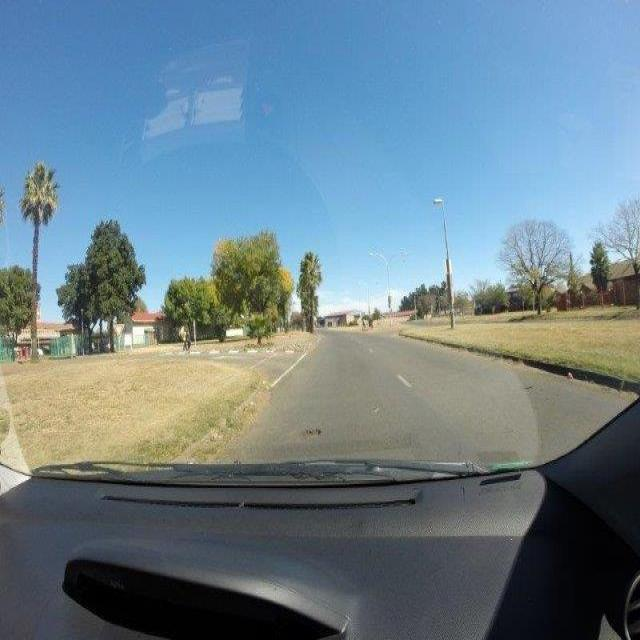lubang: (293, 424, 322, 437)
